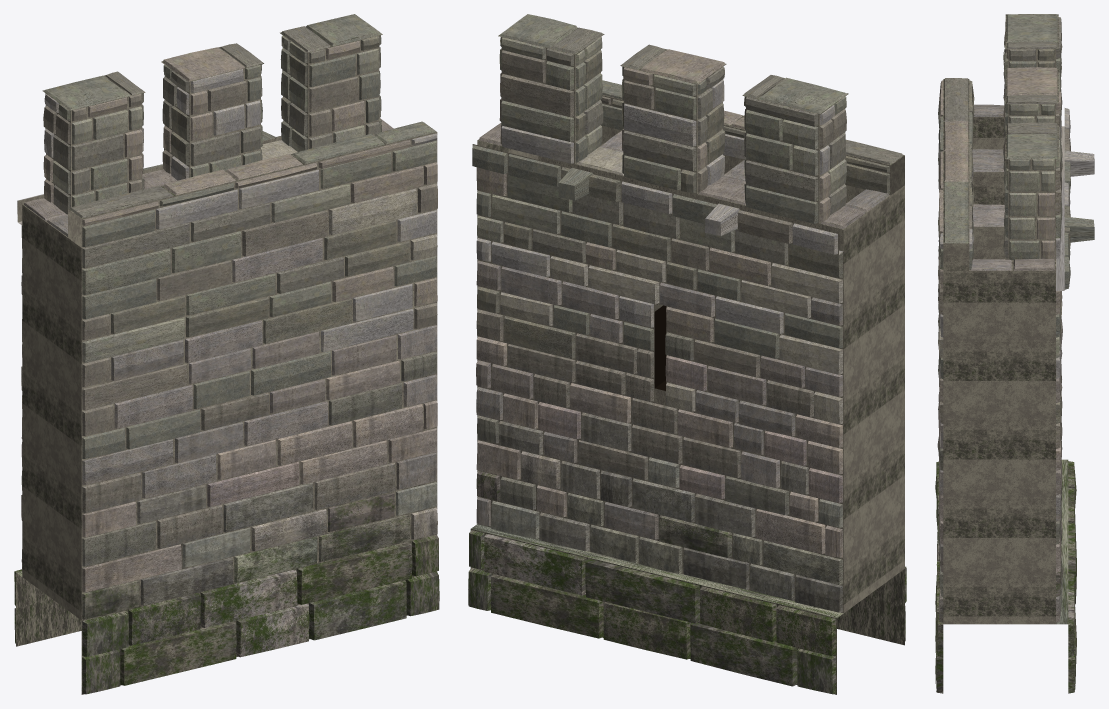
File: fort_wall.glb
3 renders of one model, left to right at view 1: azimuth 30°, elevation 25°; view 2: azimuth 150°, elevation 25°; view 3: azimuth 270°, elevation 25°, orthographic. The views are drawn at different scales.
Parts seen in each view (by area): view 1: fort_wall; view 2: fort_wall; view 3: fort_wall.
Part boxes in pixels (x1,y1,x2,y2): fort_wall: [14, 14, 439, 694]; fort_wall: [468, 14, 906, 694]; fort_wall: [935, 14, 1094, 693].
Size of the model in its own units: 4.5 by 6.75 by 1.84.
Materials: 3 (3 with a texture image).
